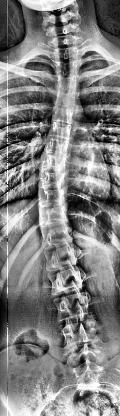Vertebrae: (53, 292, 95, 320), (66, 345, 106, 369), (48, 268, 86, 292), (63, 322, 99, 344), (43, 247, 79, 268), (38, 228, 74, 246), (36, 208, 68, 226), (44, 138, 70, 156), (40, 155, 68, 171), (38, 172, 66, 188), (38, 190, 66, 206), (49, 122, 73, 138), (54, 47, 80, 61), (56, 62, 80, 76), (55, 94, 78, 108), (52, 109, 74, 123), (57, 78, 78, 92)
